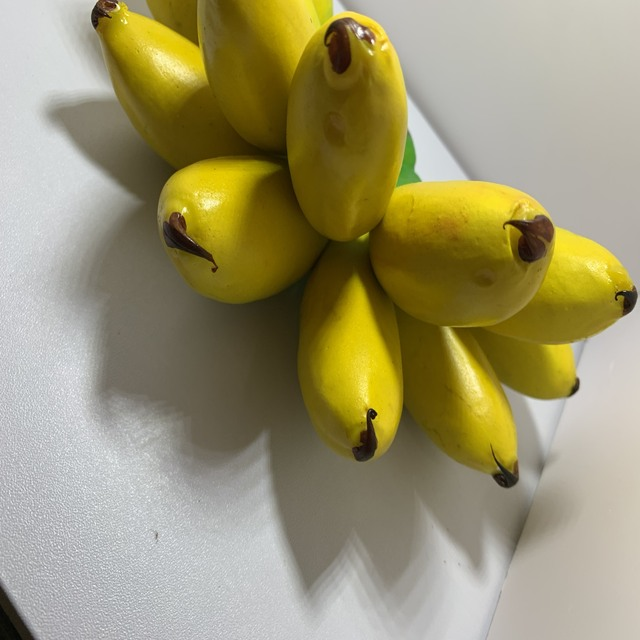Chuoi: (81, 0, 640, 495)
